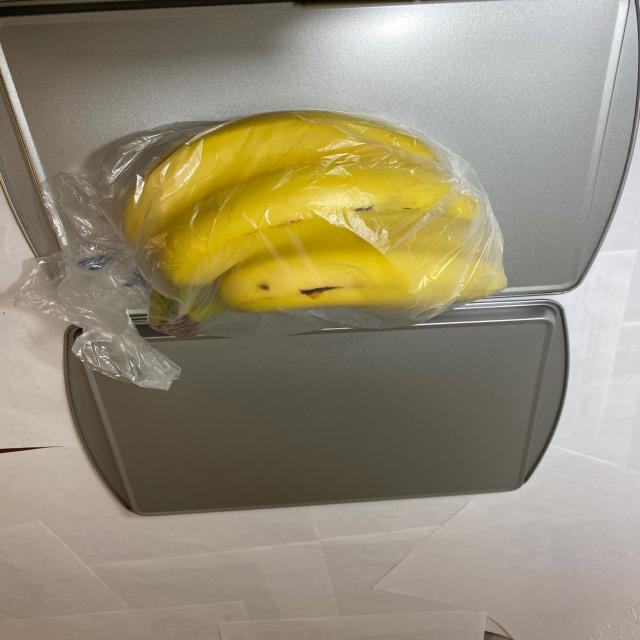banana: (118, 104, 509, 351)
